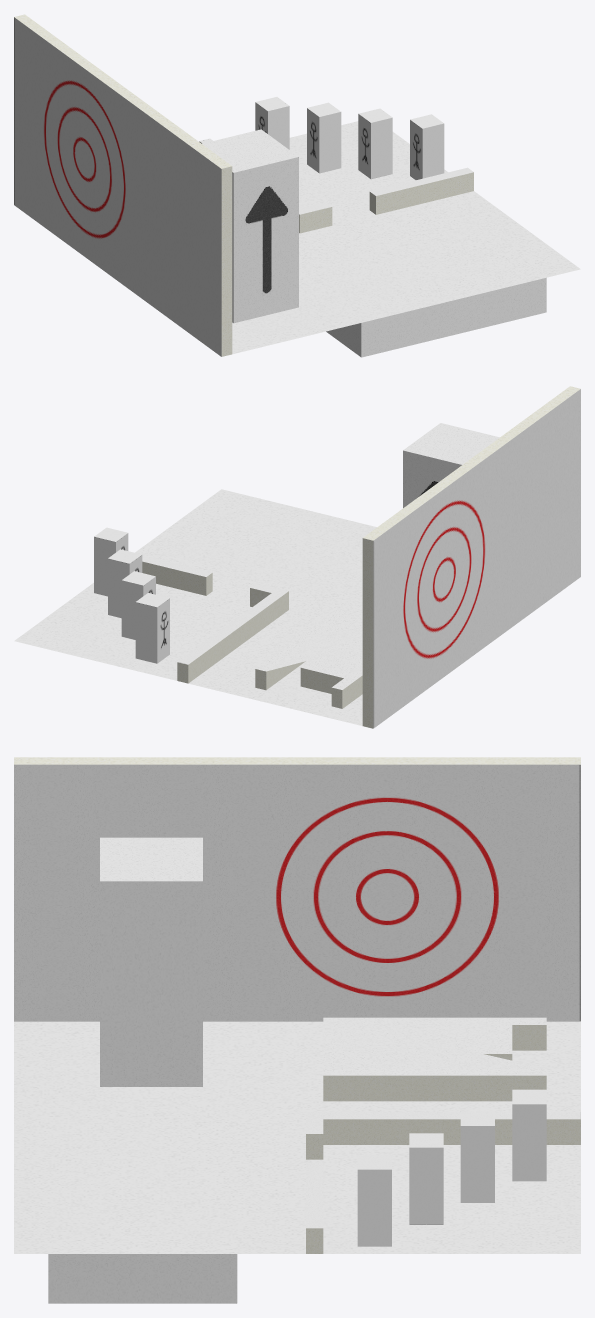
3 renders of one model, top to bottom at view 1: azimuth 30°, elevation 25°; view 2: azimuth 150°, elevation 25°; view 3: azimuth 270°, elevation 25°, orthographic. The views are drawn at different scales.
Parts seen in each view (by area): view 1: world; view 2: world; view 3: world.
Part boxes in pixels (x1,y1,x2,y2): world: (14, 14, 580, 357); world: (14, 386, 580, 728); world: (14, 757, 580, 1303).
Size of the model in its own units: 256 by 160 by 256.
1 material, 1 textured.
